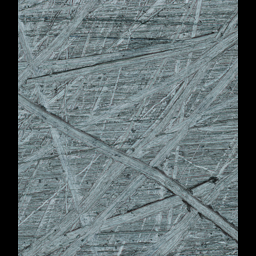d: (18, 2, 237, 254)
